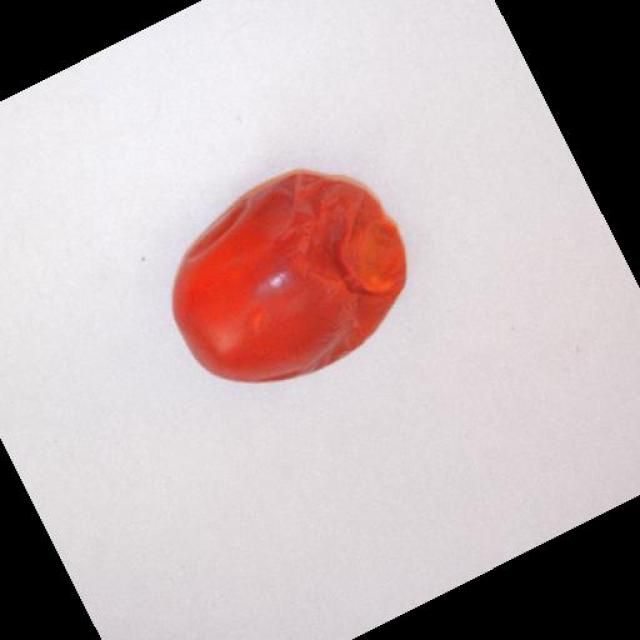Stale_tomato: (171, 173, 398, 378)
